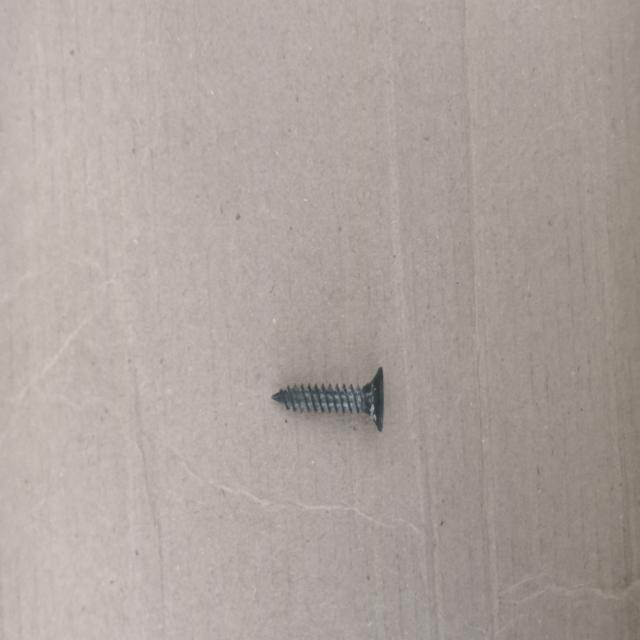screw: (272, 366, 384, 433)
